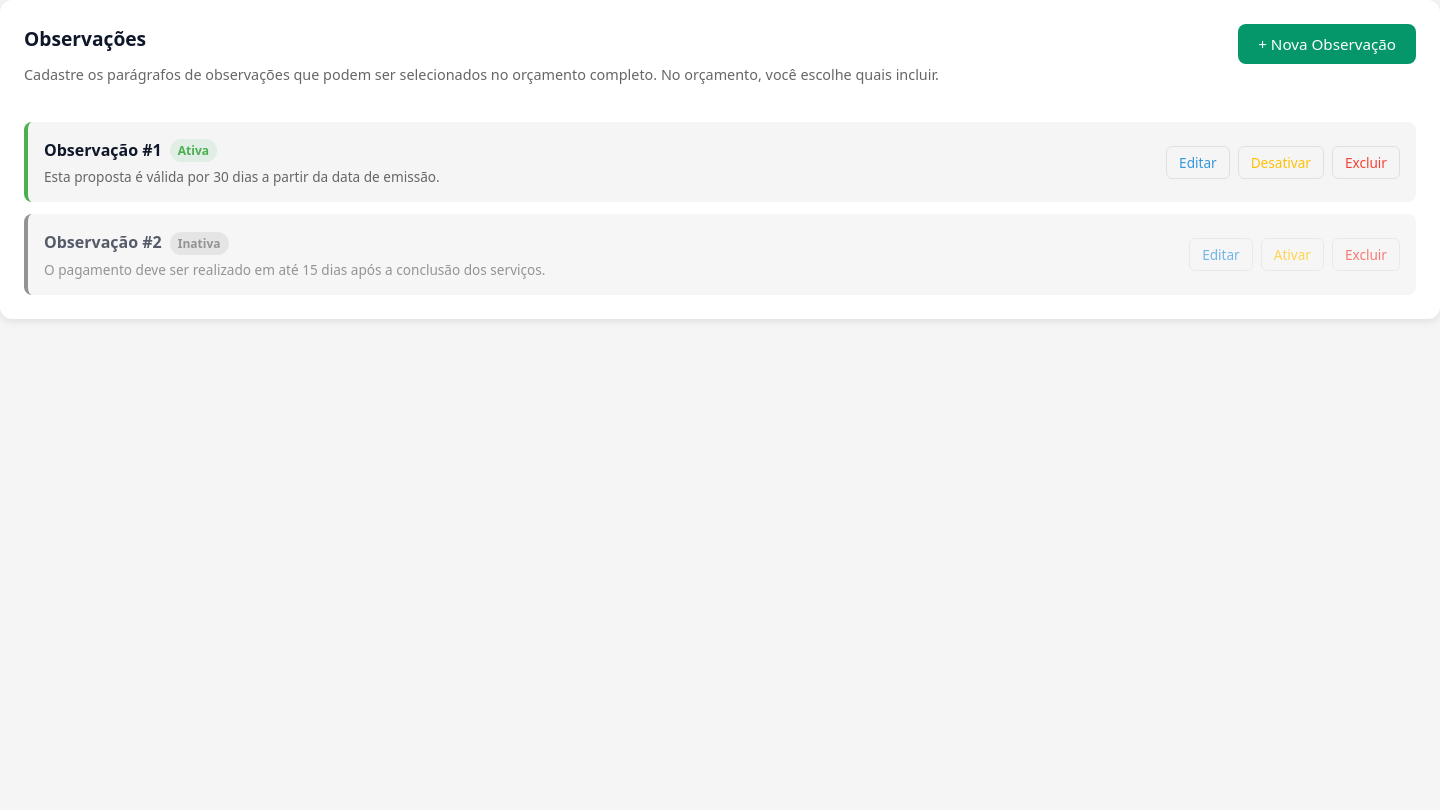
Test: LimitacoesTab › Criar nova limitação › deve abrir modal ao clicar em Nova Observação
Click the button "+ Nova Observação". click: (1327, 44)
box: [1238,24,1416,64]
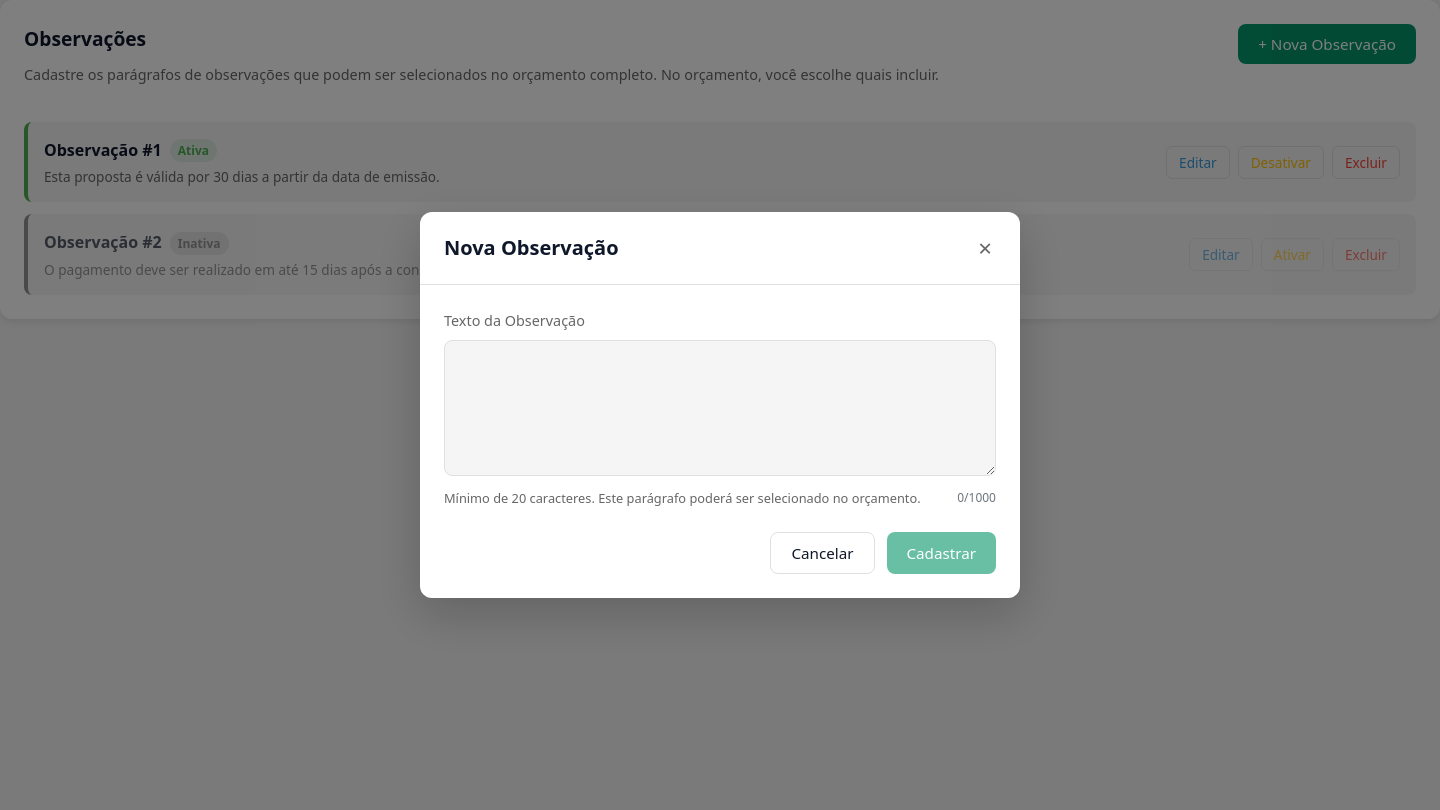
Check: the heading "Nova Observação" is shown, box [444,232,618,264]
